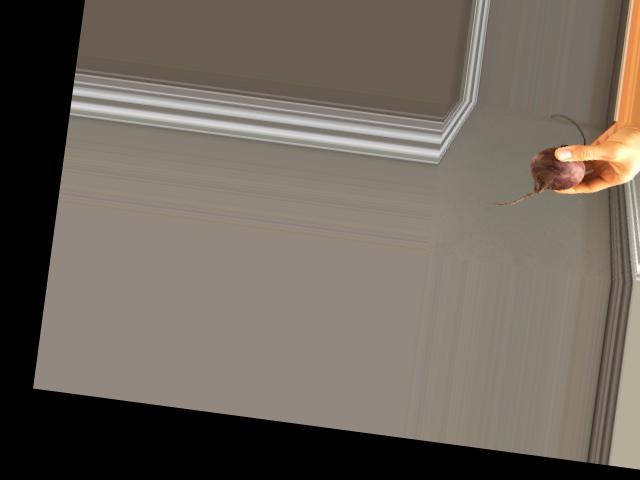beet: (491, 106, 591, 215)
